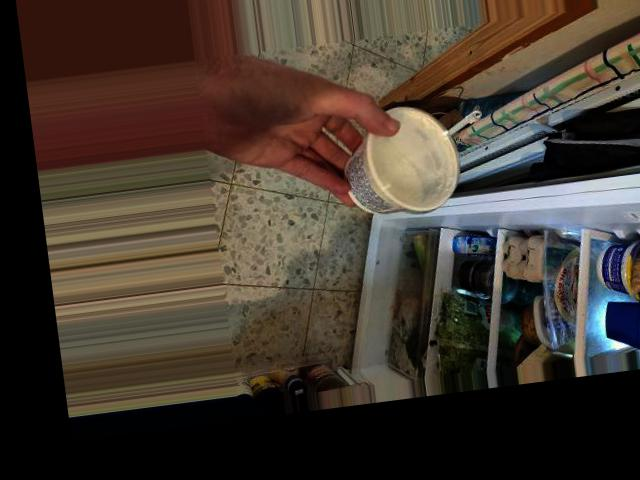cotage: (340, 107, 474, 215)
